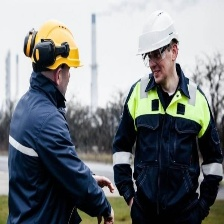helmet: (25, 22, 83, 76), (134, 14, 179, 55)
no-vest: (124, 80, 210, 198), (13, 90, 92, 218)
person: (125, 12, 210, 222), (7, 20, 91, 219)
